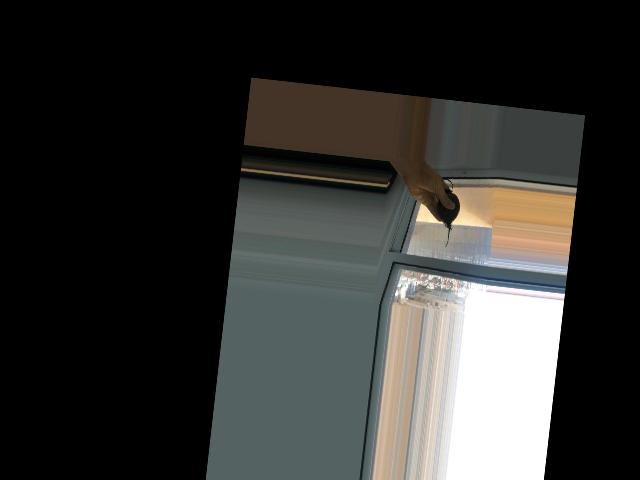beet: (425, 177, 462, 248)
